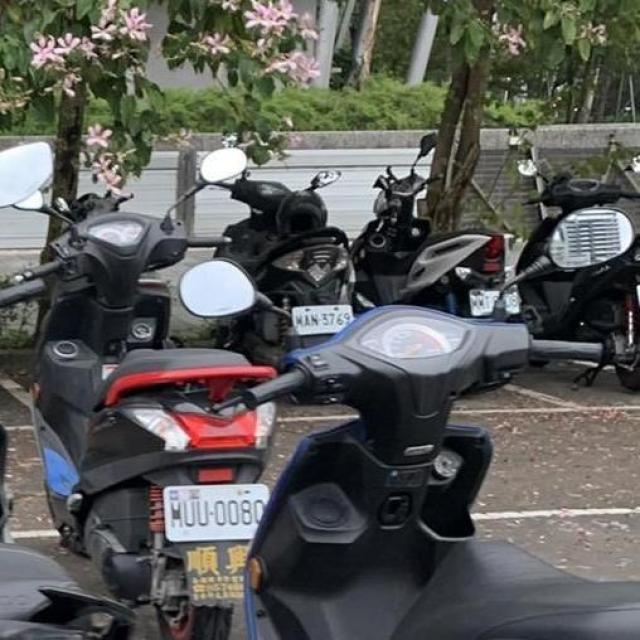W: (158, 477, 272, 547), (287, 298, 358, 336)
